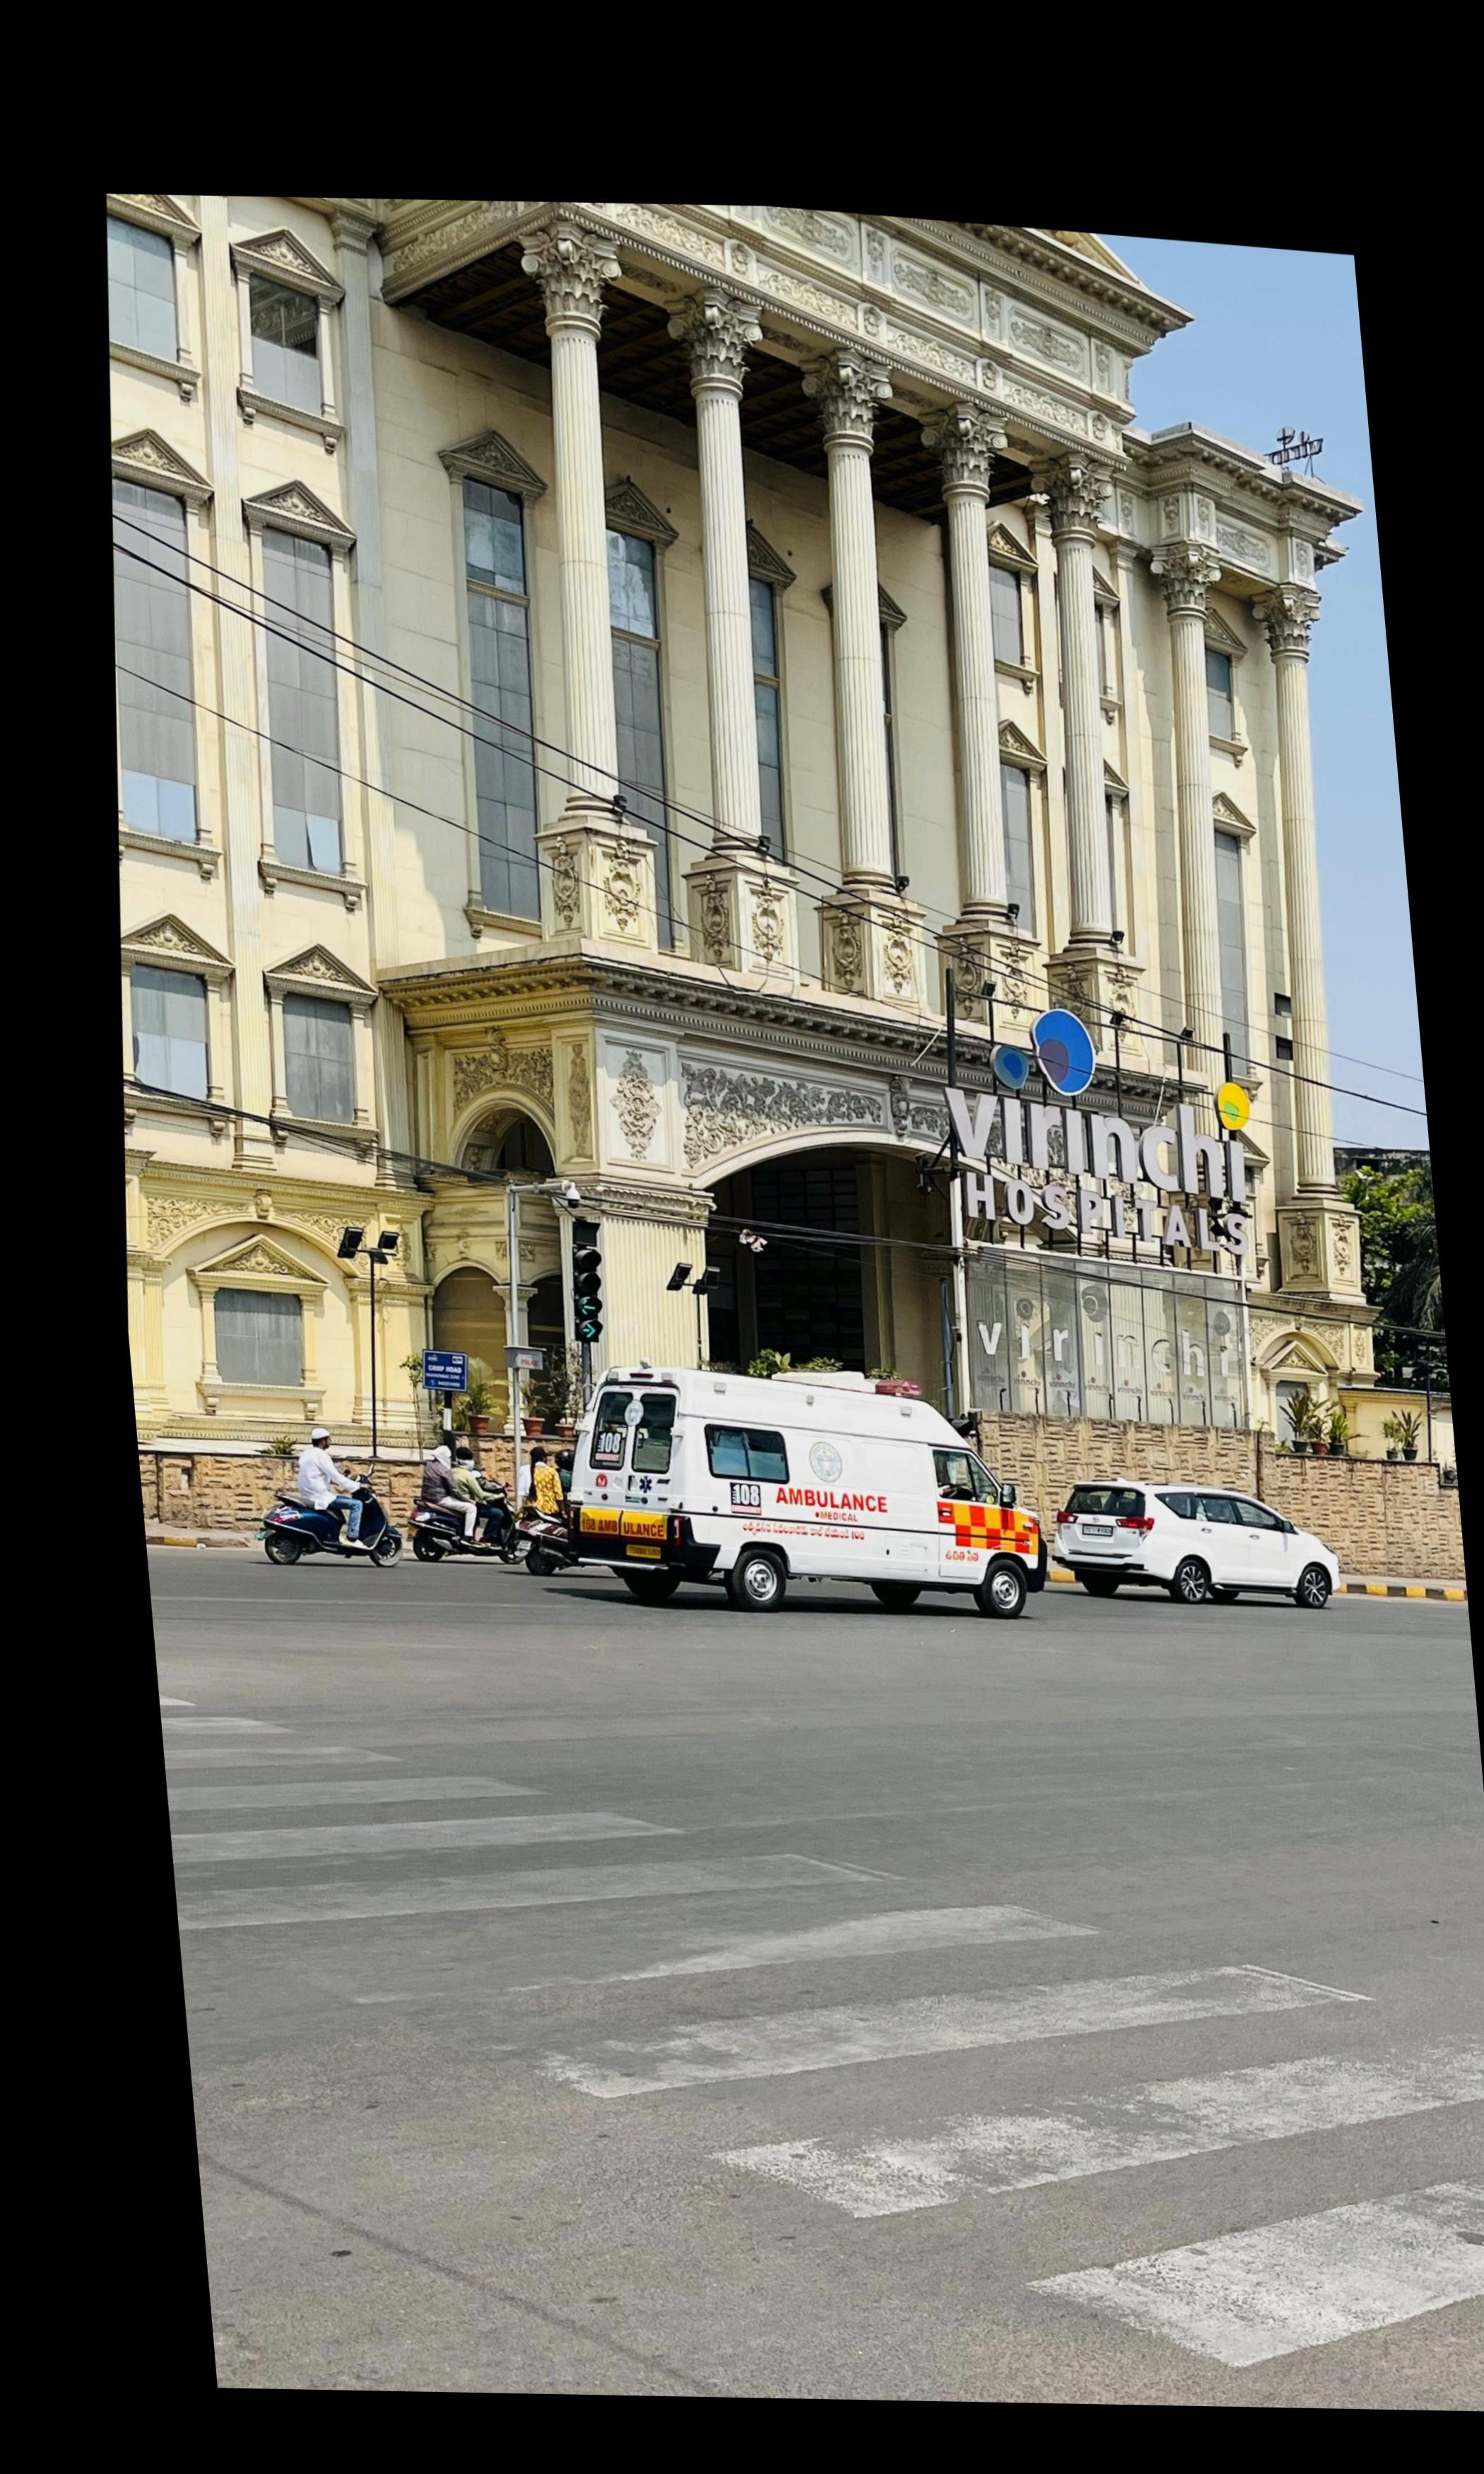ambulance: (564, 1371, 1051, 1622)
